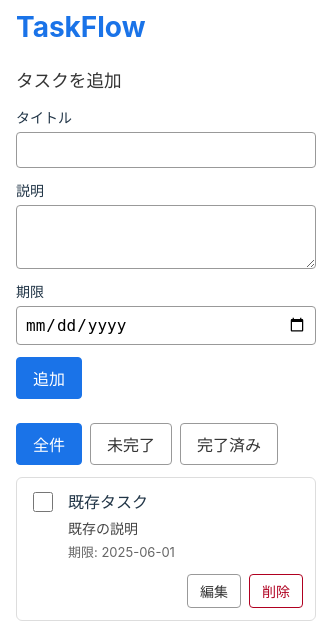
App タスク編集 › 編集をキャンセルすると内容を変更せず新規作成モードに戻る
Expected: the text "既存タスク" is shown, [68, 492, 148, 512]
Click the button "編集" at (214, 591), box [187, 574, 241, 608]
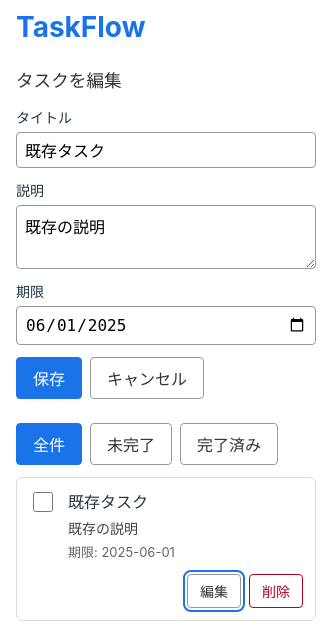
Click the button "キャンセル" at (147, 378), box [90, 357, 204, 399]
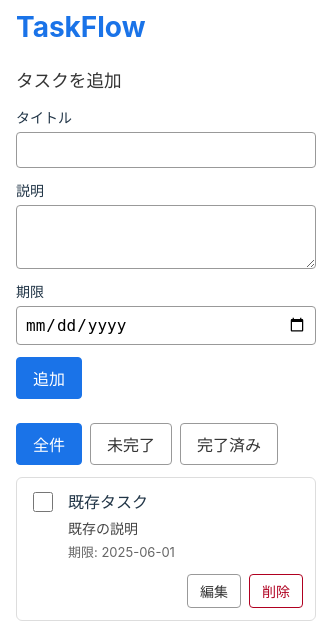
Expected: the text "既存タスク" is shown, [68, 492, 148, 512]
Expected: the heading "タスクを追加" is shown, [16, 70, 122, 91]
